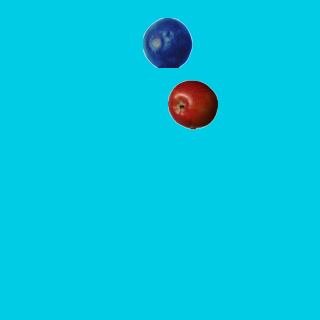Apple Braeburn: (167, 79, 217, 129)
Huckleberry: (142, 17, 192, 67)
